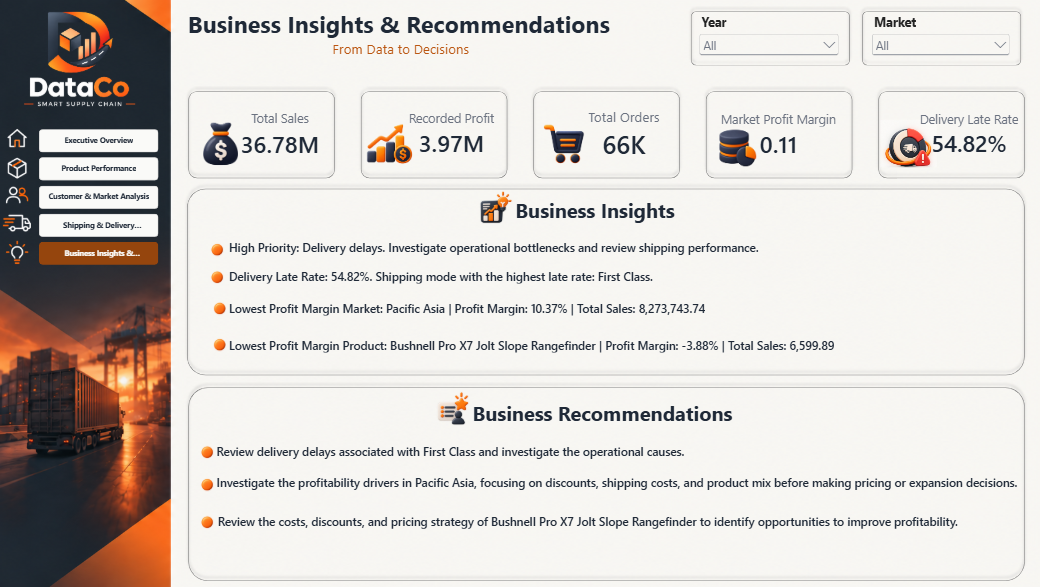

What the dashboard file says about the page in this screenshot:
{"tool":"powerbi","page":{"name":"Business Insights   & Recommendations","canvas":[1920,1080],"ordinal":4},"visuals":[{"type":"image","box":[0,19.2,491.9,287.8],"z":0},{"type":"textbox","box":[430.8,80.2,682,118.6],"z":1000},{"type":"shape","box":[421.5,677.2,1356.2,327.8],"z":2000},{"type":"shape","box":[419.7,360.2,1358,317],"z":3000},{"type":"shape","box":[1500,75,272.5,105],"z":4000},{"type":"shape","box":[1225,75,272.5,105],"z":5000},{"type":"image","box":[0,202.3,382,359.3],"z":6000},{"type":"pageNavigator","box":[191.9,273.8,191.9,219.8],"z":7000},{"type":"shape","box":[421.7,203.2,252.4,157.5],"z":8000},{"type":"shape","box":[973.9,203.2,252.4,157.5],"z":9000},{"type":"shape","box":[1250,203.2,252.4,157.5],"z":10000},{"type":"shape","box":[1526,203.2,252.4,157.5],"z":11000},{"type":"shape","box":[697.8,203.2,252.4,157.5],"z":12000},{"type":"cardVisual","fields":{"Data":["Measures_.Total Profit"]},"box":[763.7,212.5,176.1,140.6],"z":13000},{"type":"cardVisual","fields":{"Data":["Measures_.Total Sales"]},"box":[491.7,212.5,171.3,141.1],"z":14000},{"type":"image","box":[415,226.2,132.1,133.8],"z":15000},{"type":"image","box":[686.2,232.5,122.5,122.5],"z":16000},{"type":"cardVisual","fields":{"Data":["Measures_.Total Orders"]},"box":[960,212.5,252.5,140],"z":17000},{"type":"image","box":[973.3,228.5,121.9,128.7],"z":18000},{"type":"image","box":[1538.2,250.4,90.7,94.2],"z":19000},{"type":"cardVisual","fields":{"Data":["Measures_.Delivery Late Rate"]},"box":[1567,212.5,228.7,140.5],"z":20000},{"type":"cardVisual","fields":{"Data":["Measures_.Market Profit Margin %"]},"box":[1250,212.5,250.4,142.3],"z":21000},{"type":"image","box":[1250,232.3,121.9,128.7],"z":22000},{"type":"cardVisual","fields":{"Data":["Measures_.Product Performance Insight"]},"box":[480.9,587.2,1006.8,61.2],"z":23000},{"type":"cardVisual","fields":{"Data":["Measures_.Delivery Performance Insight"]},"box":[480.9,475.5,1006.8,64.8],"z":24000},{"type":"cardVisual","fields":{"Data":["Measures_.Delivery Recommendation"]},"box":[460,762.5,1006.8,55.8],"z":25000},{"type":"cardVisual","fields":{"Data":["Measures_.Market Profitability Recommendation"]},"box":[460,810,1363.5,59.4],"z":26000},{"type":"cardVisual","fields":{"Data":["Measures_.Market Profitability Insight"]},"box":[480.9,531.3,1006.8,55.8],"z":27000},{"type":"cardVisual","fields":{"Data":["Measures_.Product Performance Recommendation"]},"box":[462.5,870,1327.4,61.2],"z":28000},{"type":"cardVisual","fields":{"Data":["Measures_.Business Priority Insight"]},"box":[480.9,432.3,1071.7,61.2],"z":29000},{"type":"slicer","fields":{"Values":["DimDate.Year"]},"box":[1244.6,88.3,232.3,77.4],"z":30000},{"type":"textbox","box":[922.2,381.8,327.8,70.2],"z":31000},{"type":"textbox","box":[880.8,706,426.9,70.2],"z":32000},{"type":"slicer","fields":{"Values":["FactOrderItems.Market"]},"box":[1520.2,88.3,230,80],"z":33000},{"type":"image","box":[880,357.5,80,84],"z":33001},{"type":"image","box":[811.4,677.1,80,84],"z":33002},{"type":"image","box":[445,775,30,25.7],"z":33007},{"type":"image","box":[445,827.5,30,25.7],"z":33008},{"type":"image","box":[445,887.5,30,25.7],"z":33009},{"type":"image","box":[461.4,451.4,30,25.7],"z":33010},{"type":"image","box":[462.9,495.7,30,25.7],"z":33011},{"type":"image","box":[465.7,545.7,30,25.7],"z":33012},{"type":"image","box":[465.7,604.3,30,25.7],"z":33013}]}

Visuals, with their boxes in screenshot pixels (x1, y1, x2, y2), scaled from the page's 1920x1080 canvas onto the 1040x587 screenshot:
image: <box>0,10,266,167</box>
textbox: <box>233,44,603,108</box>
shape: <box>228,368,963,546</box>
shape: <box>227,196,963,368</box>
shape: <box>812,41,960,98</box>
shape: <box>664,41,811,98</box>
image: <box>0,110,207,305</box>
pageNavigator: <box>104,149,208,268</box>
shape: <box>228,110,365,196</box>
shape: <box>528,110,664,196</box>
shape: <box>677,110,814,196</box>
shape: <box>827,110,963,196</box>
shape: <box>378,110,515,196</box>
cardVisual - Measures_.Total Profit: <box>414,115,509,192</box>
cardVisual - Measures_.Total Sales: <box>266,115,359,192</box>
image: <box>225,123,296,196</box>
image: <box>372,126,438,193</box>
cardVisual - Measures_.Total Orders: <box>520,115,657,192</box>
image: <box>527,124,593,194</box>
image: <box>833,136,882,187</box>
cardVisual - Measures_.Delivery Late Rate: <box>849,115,973,192</box>
cardVisual - Measures_.Market Profit Margin %: <box>677,115,813,193</box>
image: <box>677,126,743,196</box>
cardVisual - Measures_.Product Performance Insight: <box>260,319,806,352</box>
cardVisual - Measures_.Delivery Performance Insight: <box>260,258,806,294</box>
cardVisual - Measures_.Delivery Recommendation: <box>249,414,795,445</box>
cardVisual - Measures_.Market Profitability Recommendation: <box>249,440,988,473</box>
cardVisual - Measures_.Market Profitability Insight: <box>260,289,806,319</box>
cardVisual - Measures_.Product Performance Recommendation: <box>251,473,970,506</box>
cardVisual - Measures_.Business Priority Insight: <box>260,235,841,268</box>
slicer - DimDate.Year: <box>674,48,800,90</box>
textbox: <box>500,208,677,246</box>
textbox: <box>477,384,708,422</box>
slicer - FactOrderItems.Market: <box>823,48,948,91</box>
image: <box>477,194,520,240</box>
image: <box>440,368,483,414</box>
image: <box>241,421,257,435</box>
image: <box>241,450,257,464</box>
image: <box>241,482,257,496</box>
image: <box>250,245,266,259</box>
image: <box>251,269,267,283</box>
image: <box>252,297,269,311</box>
image: <box>252,328,269,342</box>
